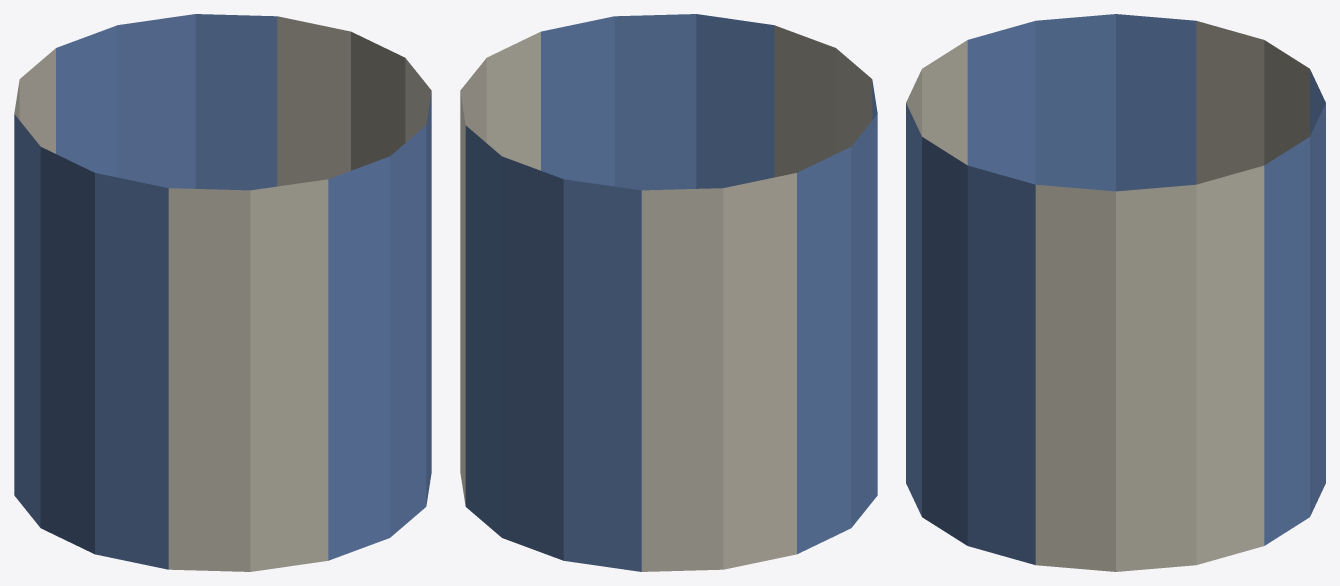
File: jeton_100.glb
3 renders of one model, left to right at view 1: azimuth 30°, elevation 25°; view 2: azimuth 150°, elevation 25°; view 3: azimuth 270°, elevation 25°, orthographic.
Visible parts, largest first — view 1: jeton_100_0; view 2: jeton_100_0; view 3: jeton_100_0.
Part boxes in pixels (x1,y1,x2,y2): jeton_100_0: (14, 14, 431, 571); jeton_100_0: (460, 14, 877, 571); jeton_100_0: (906, 14, 1325, 571).
Size of the model in its own units: 1 by 1 by 1.
